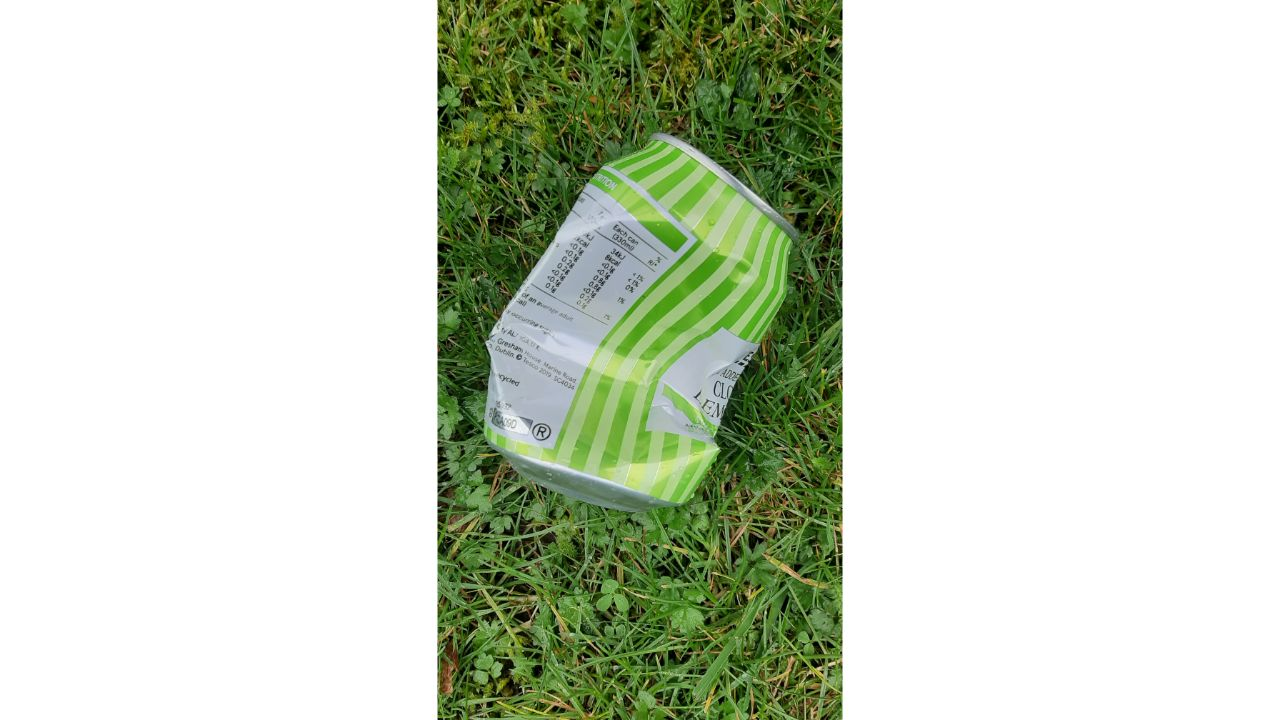Can: (484, 133, 801, 514)
